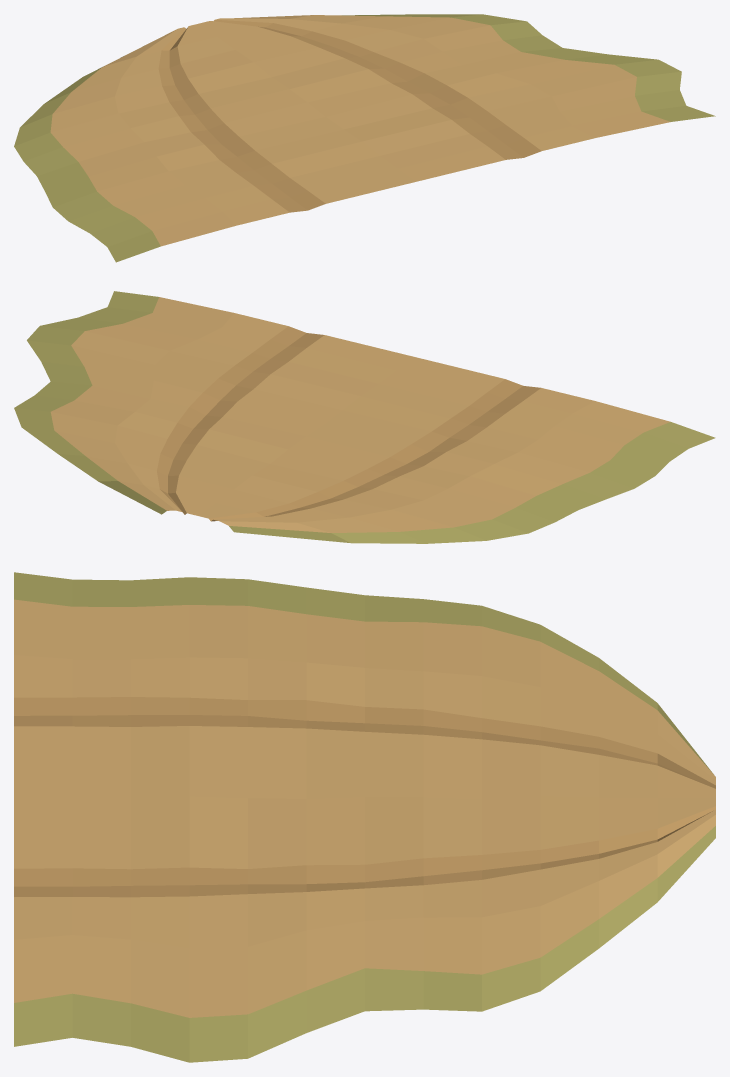
File: Path_Dirt_End.fbx
3 views of the same model, one above another, from view 1: azimuth 30°, elevation 25°; view 2: azimuth 150°, elevation 25°; view 3: azimuth 270°, elevation 25° (orthographic). The views are drawn at different scales.
Parts seen in each view (by area): view 1: Path_Dirt_End; view 2: Path_Dirt_End; view 3: Path_Dirt_End.
Part boxes in pixels (bbox=[...]): Path_Dirt_End: bbox=[14, 14, 715, 262]; Path_Dirt_End: bbox=[14, 291, 715, 543]; Path_Dirt_End: bbox=[14, 572, 715, 1062].
Size of the model in its own units: 3.31 by 0.0436 by 2.
